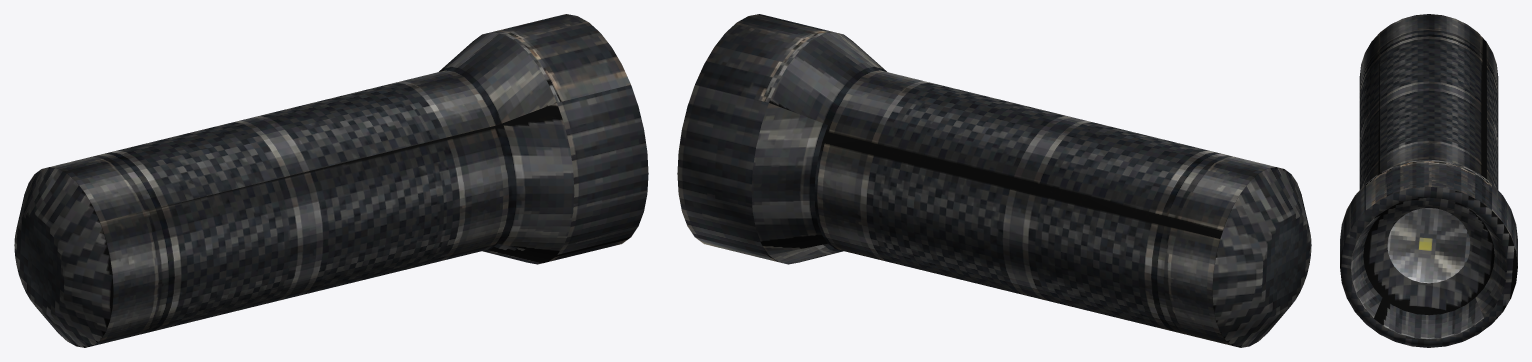
3 renders of one model, left to right at view 1: azimuth 30°, elevation 25°; view 2: azimuth 150°, elevation 25°; view 3: azimuth 270°, elevation 25°, orthographic. The views are drawn at different scales.
Parts seen in each view (by area): view 1: Cylinder; view 2: Cylinder; view 3: Cylinder.
Boxes of the visible parts, x1,y1,x2,y2 form: Cylinder: [14, 14, 648, 347]; Cylinder: [677, 14, 1311, 347]; Cylinder: [1340, 14, 1517, 347].
Size of the model in its own units: 6.89 by 2.57 by 2.57.
Materials: 1 (1 with a texture image).
